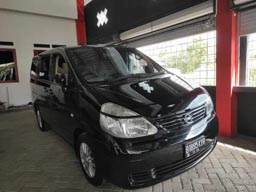plat: (184, 137, 204, 157)
